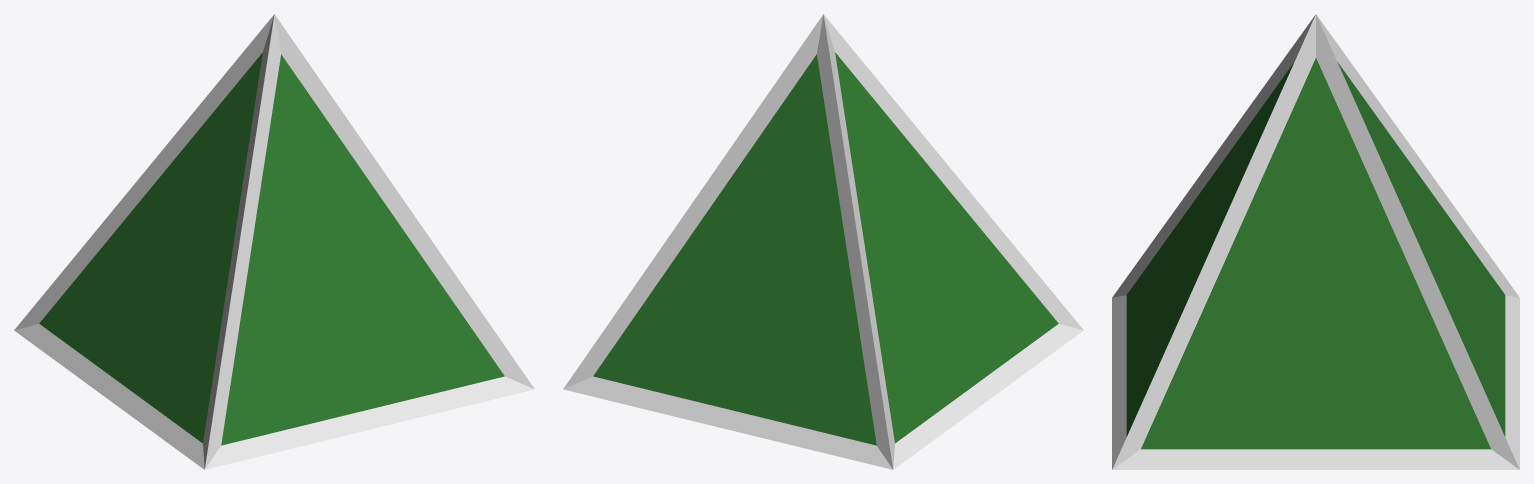
Rendered from ChiavePiramide.fbx.
The picture shows the model from 3 angles, left to right: view 1: azimuth 30°, elevation 25°; view 2: azimuth 150°, elevation 25°; view 3: azimuth 270°, elevation 25°; orthographic projection. The views are drawn at different scales.
Visible parts, largest first — view 1: ChiavePiramide; view 2: ChiavePiramide; view 3: ChiavePiramide.
Part boxes in pixels (x1=…): ChiavePiramide: x1=14, y1=14, x2=534, y2=469; ChiavePiramide: x1=563, y1=14, x2=1083, y2=469; ChiavePiramide: x1=1112, y1=14, x2=1519, y2=469.
Size of the model in its own units: 31.33 by 31.35 by 31.33.
